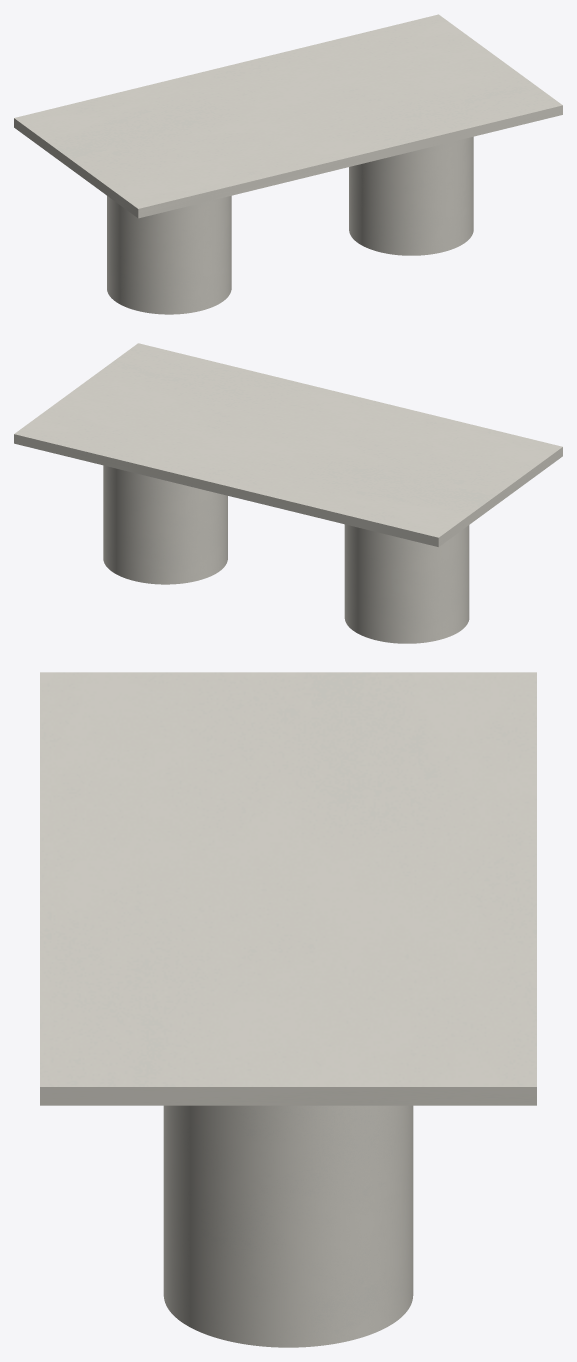
The model's file is pale_recta_standard_stream.glb.
3 renders of one model, top to bottom at view 1: azimuth 30°, elevation 25°; view 2: azimuth 150°, elevation 25°; view 3: azimuth 270°, elevation 25°, orthographic. The views are drawn at different scales.
Visible parts, largest first — view 1: standard_recta, stream; view 2: standard_recta, stream; view 3: standard_recta, stream.
Part boxes in pixels (left/top/right/bottom): standard_recta: left=14, top=14, right=562, bottom=218; stream: left=107, top=136, right=473, bottom=314; standard_recta: left=14, top=343, right=562, bottom=547; stream: left=103, top=465, right=469, bottom=643; standard_recta: left=40, top=672, right=536, bottom=1105; stream: left=163, top=1105, right=413, bottom=1347.
Size of the model in its own units: 7.5 by 2.49 by 3.8.
Materials: 1 (1 with a texture image).
